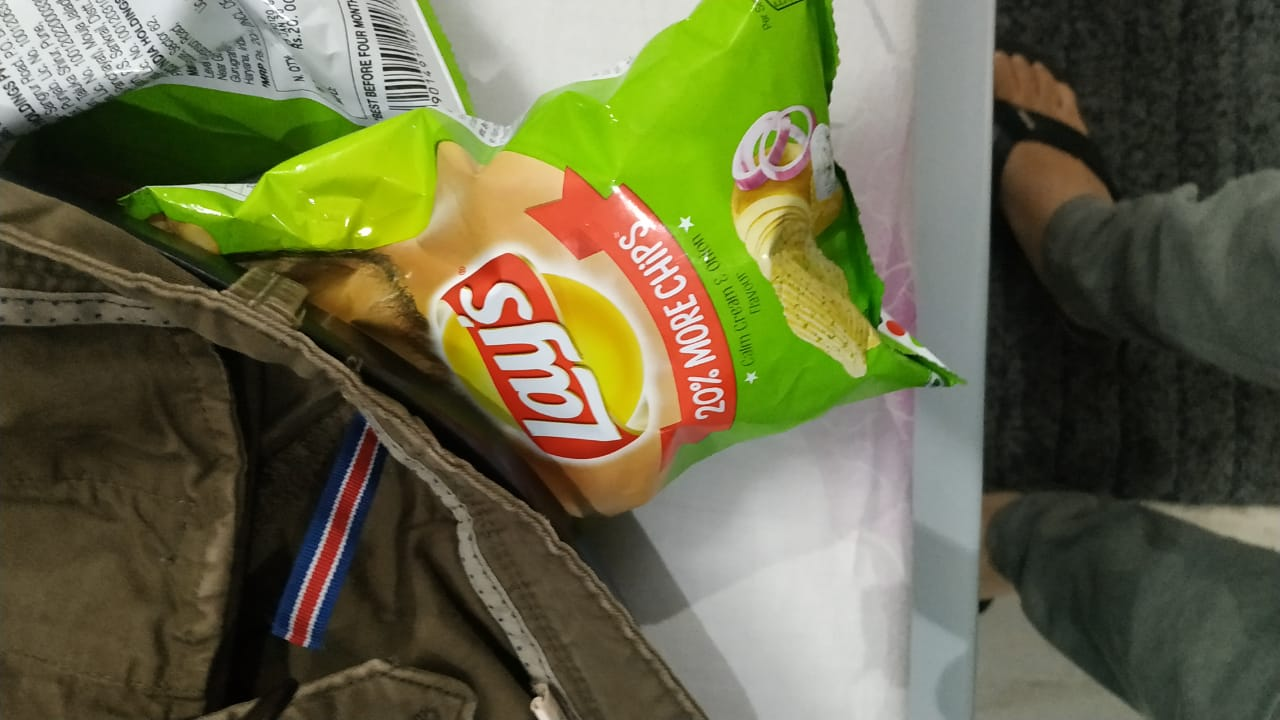lays chips: (175, 1, 970, 545)
